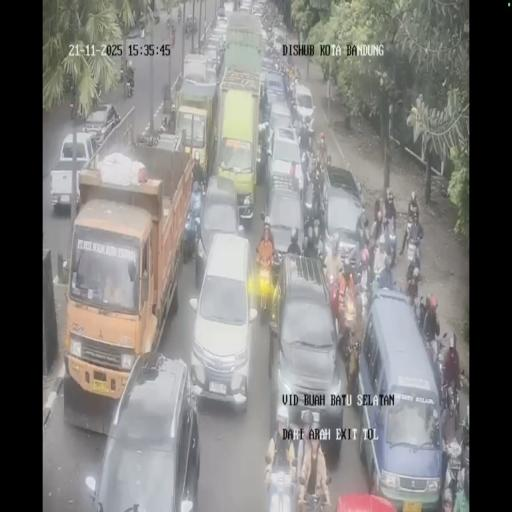3: (174, 72, 218, 180), (221, 9, 263, 82)
car: (356, 288, 443, 506), (88, 352, 200, 508), (268, 256, 343, 453), (196, 172, 242, 282), (320, 165, 366, 263), (49, 132, 99, 214), (262, 184, 306, 266), (81, 103, 120, 147), (266, 100, 296, 150), (293, 82, 315, 131), (262, 69, 287, 110), (212, 16, 230, 44), (204, 52, 219, 82), (272, 32, 288, 60), (260, 26, 269, 55), (251, 0, 264, 16), (222, 0, 234, 16), (239, 0, 252, 13)
truck: (264, 436, 300, 511), (437, 356, 460, 425), (254, 256, 276, 322), (404, 230, 422, 275), (384, 220, 398, 266), (70, 89, 83, 122), (258, 118, 270, 152), (289, 69, 299, 97), (124, 72, 134, 98), (167, 28, 175, 48), (138, 13, 146, 33), (152, 8, 160, 24), (118, 64, 124, 84), (184, 22, 190, 38), (177, 6, 182, 22), (166, 16, 171, 30)
